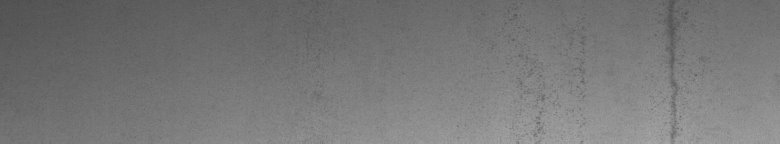ib: (508, 8, 585, 136)
